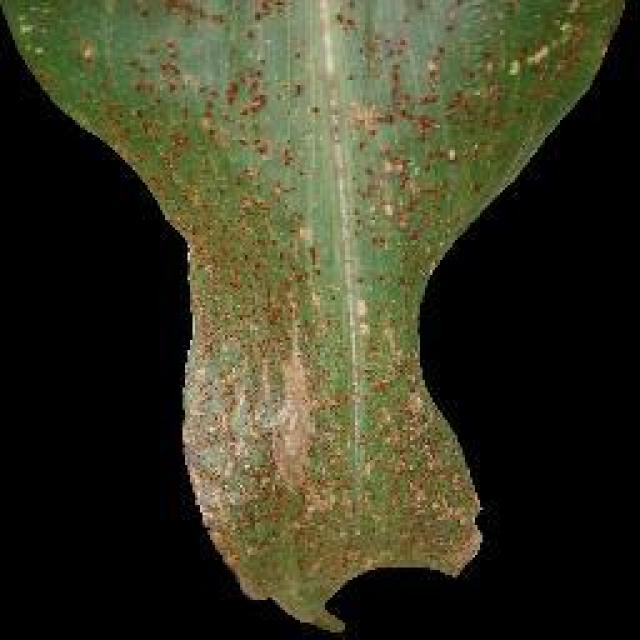Corn Common Rust: (163, 5, 562, 605)
